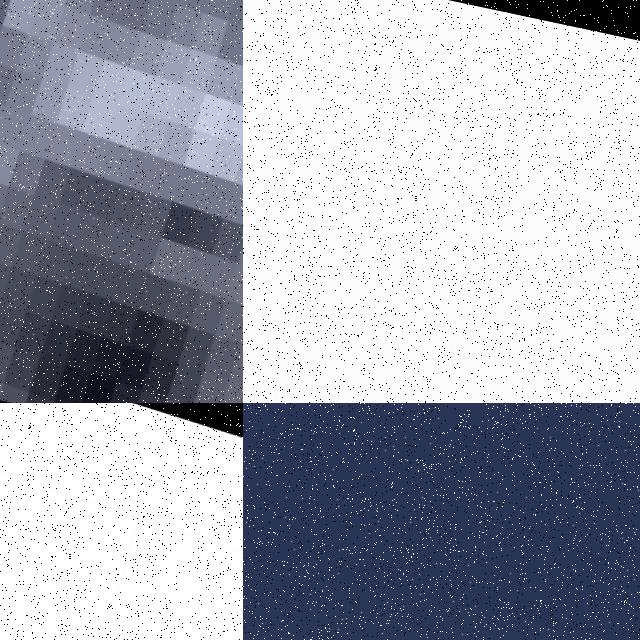0: (0, 0, 243, 403)
drone: (0, 403, 243, 640)
